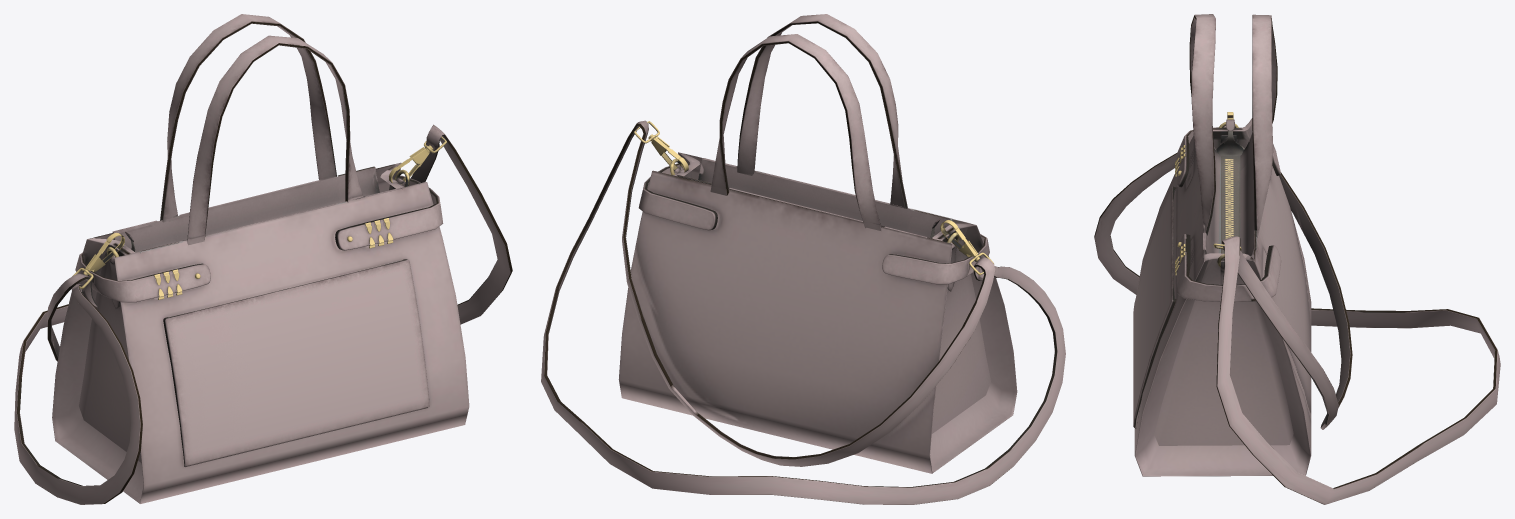
File: gucci-purse__1f6ee73e.glb
3 views of the same model, side by side, from view 1: azimuth 30°, elevation 25°; view 2: azimuth 150°, elevation 25°; view 3: azimuth 270°, elevation 25° (orthographic). The views are drawn at different scales.
Visible parts, largest first — view 1: Gucci_Purse_low; view 2: Gucci_Purse_low; view 3: Gucci_Purse_low.
Boxes of the visible parts, box(x1,y1,x2,y2) form: Gucci_Purse_low: box(14, 14, 512, 504); Gucci_Purse_low: box(541, 14, 1065, 504); Gucci_Purse_low: box(1094, 14, 1500, 504).
Bounding box in the file's own units: 25.97 × 22.36 × 20.56.
Materials: 1 (1 with a texture image).
